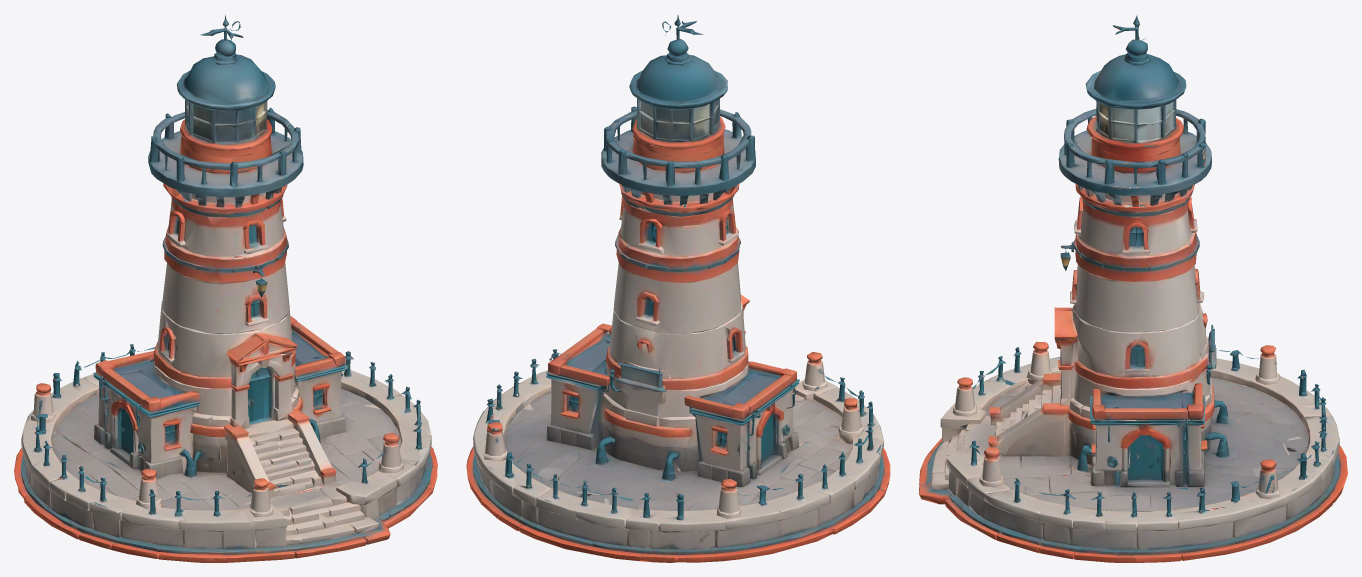
File: lighthouse-mobile.glb
3 views of the same model, side by side, from view 1: azimuth 30°, elevation 25°; view 2: azimuth 150°, elevation 25°; view 3: azimuth 270°, elevation 25° (orthographic).
Visible parts, largest first — view 1: model; view 2: model; view 3: model.
Part boxes in pixels (x1,y1,x2,y2): model: [14, 15, 437, 562]; model: [466, 15, 890, 562]; model: [919, 15, 1347, 562].
Size of the model in its own units: 1.58 by 1.9 by 1.6.
Materials: 1 (1 with a texture image).
